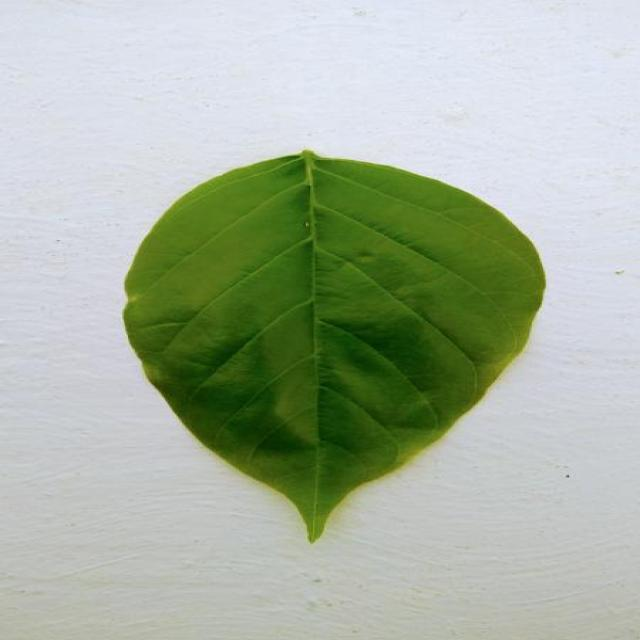honge: (125, 151, 545, 481)
